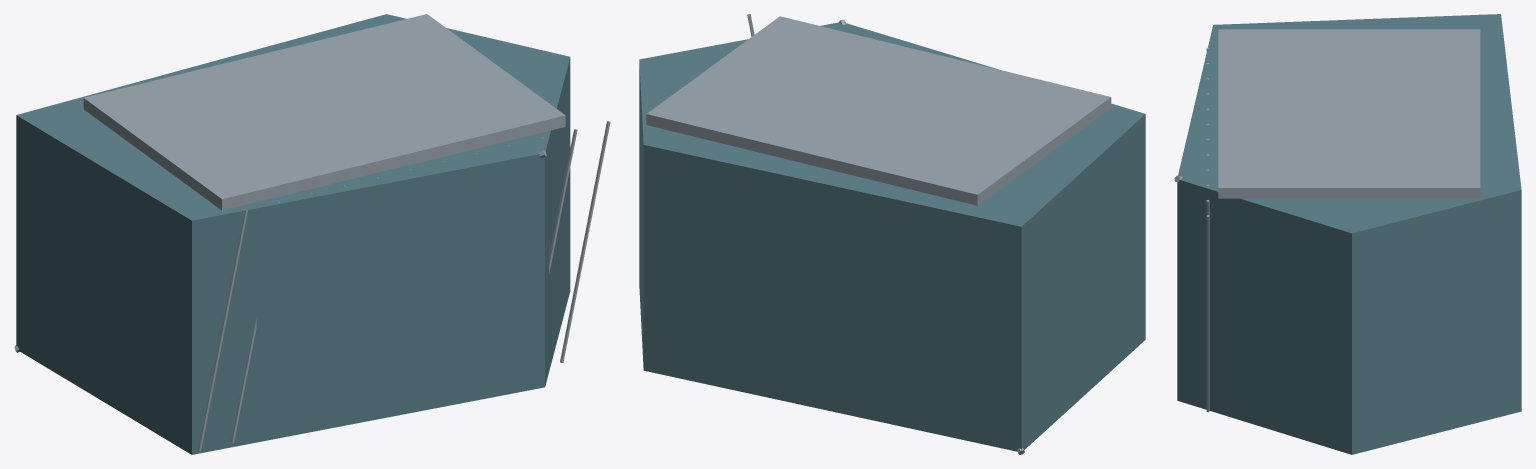
Rendered from source.glb.
3 views of the same model, side by side, from view 1: azimuth 30°, elevation 25°; view 2: azimuth 150°, elevation 25°; view 3: azimuth 270°, elevation 25° (orthographic). The views are drawn at different scales.
Parts seen in each view (by area): view 1: worldgen; view 2: worldgen; view 3: worldgen.
Boxes of the visible parts, x1,y1,x2,y2 form: worldgen: (14,14,610,454); worldgen: (639,14,1145,454); worldgen: (1174,14,1521,454).
Bounding box in the file's own units: 101 × 50.43 × 67.54.
